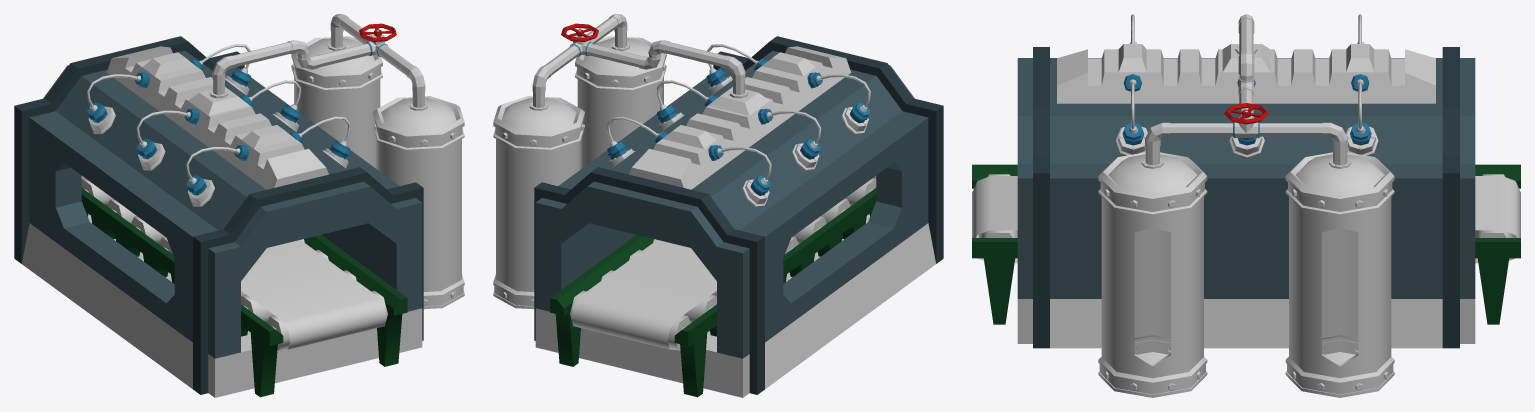
Rendered from TestMesh.obj.
3 views of the same model, side by side, from view 1: azimuth 30°, elevation 25°; view 2: azimuth 150°, elevation 25°; view 3: azimuth 270°, elevation 25° (orthographic). The views are drawn at different scales.
Parts seen in each view (by area): view 1: Cube0191, Cylinder0171, Cube0201, Cube0151, Cube0041, Plane0081, Cube0181, Cylinder0361, Cylinder0801, Cylinder0311, Cylinder0511, Cylinder0421 (+1 smaller); view 2: Cube0191, Cylinder0171, Cube0201, Cube0151, Cube0041, Plane0081, Cube0181, Cylinder0361, Cylinder0801, Cylinder0311, Cylinder0511, Cylinder0421 (+1 smaller); view 3: Cube0191, Cylinder0171, Cube0041, Cube0201, Cube0151, Cylinder0291, Cube0181, Plane0081, Cylinder0361, Cylinder0421, Cylinder0511, Cylinder0801 (+3 smaller).
Boxes of the visible parts, x1,y1,x2,y2 form: Cube0191: [29, 50, 422, 358]; Cylinder0171: [291, 36, 464, 309]; Cube0201: [22, 214, 422, 397]; Cube0151: [14, 36, 423, 394]; Cube0041: [106, 46, 328, 189]; Plane0081: [241, 240, 386, 349]; Cube0181: [81, 188, 407, 397]; Cylinder0361: [213, 17, 424, 107]; Cylinder0801: [87, 59, 349, 195]; Cylinder0311: [81, 176, 387, 350]; Cylinder0511: [88, 75, 348, 206]; Cylinder0421: [212, 14, 425, 93]; Cube0191: [535, 50, 928, 358]; Cylinder0171: [493, 36, 666, 309]; Cube0201: [535, 214, 935, 397]; Cube0151: [534, 36, 943, 394]; Cube0041: [629, 46, 851, 189]; Plane0081: [571, 240, 716, 349]; Cube0181: [550, 188, 876, 397]; Cylinder0361: [533, 17, 744, 107]; Cylinder0801: [607, 59, 870, 195]; Cylinder0311: [570, 176, 876, 350]; Cylinder0511: [608, 76, 868, 207]; Cylinder0421: [532, 14, 745, 93]; Cube0191: [1017, 58, 1475, 298]; Cylinder0171: [1098, 152, 1394, 397]; Cube0041: [1057, 44, 1435, 103]; Cube0201: [1017, 299, 1475, 348]; Cube0151: [1033, 47, 1459, 348]; Cylinder0291: [1134, 228, 1358, 364]; Cube0181: [972, 164, 1520, 324]; Plane0081: [972, 176, 1520, 263]; Cylinder0361: [1145, 18, 1347, 165]; Cylinder0421: [1145, 14, 1347, 148]; Cylinder0511: [1115, 126, 1378, 158]; Cylinder0801: [1122, 74, 1371, 145].
Size of the model in its own units: 9.02 by 6.65 by 12.
